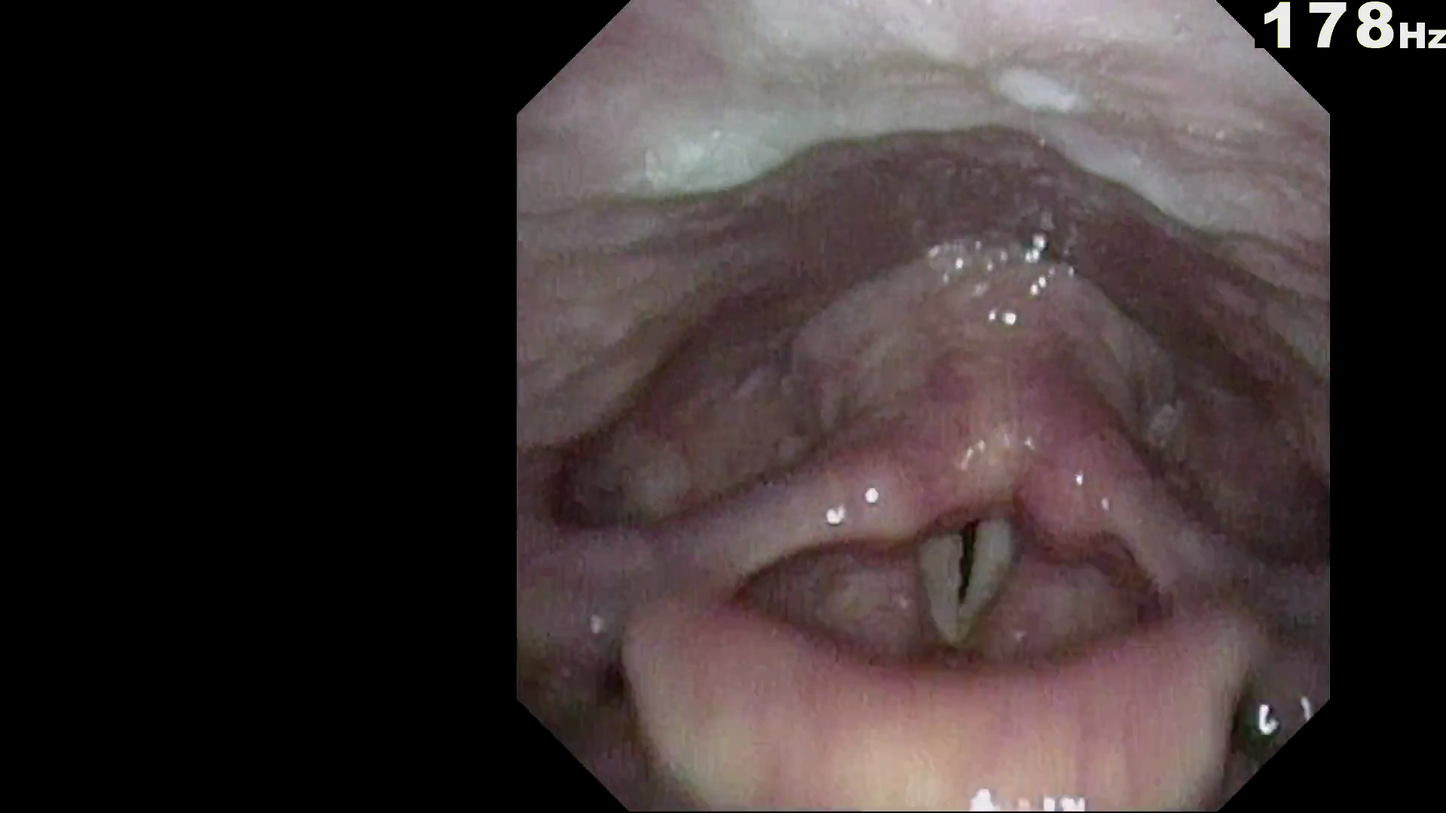epiglottis: (673, 472, 1217, 663)
trachea: (909, 440, 1063, 523)
